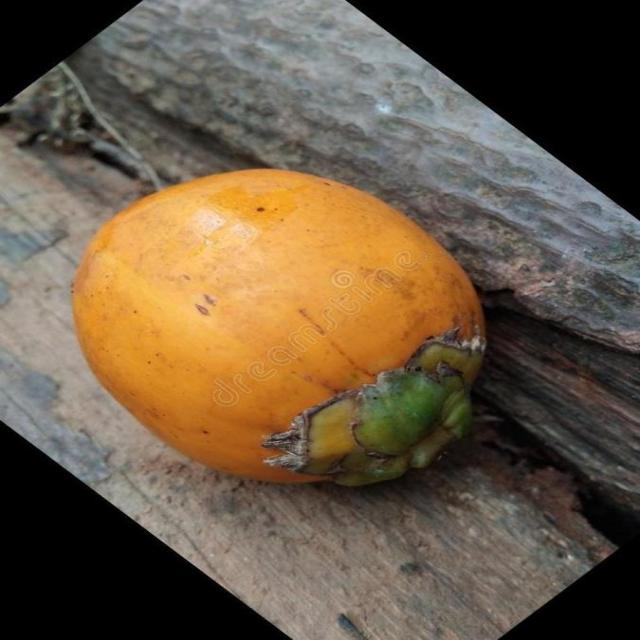good: (69, 168, 487, 488)
